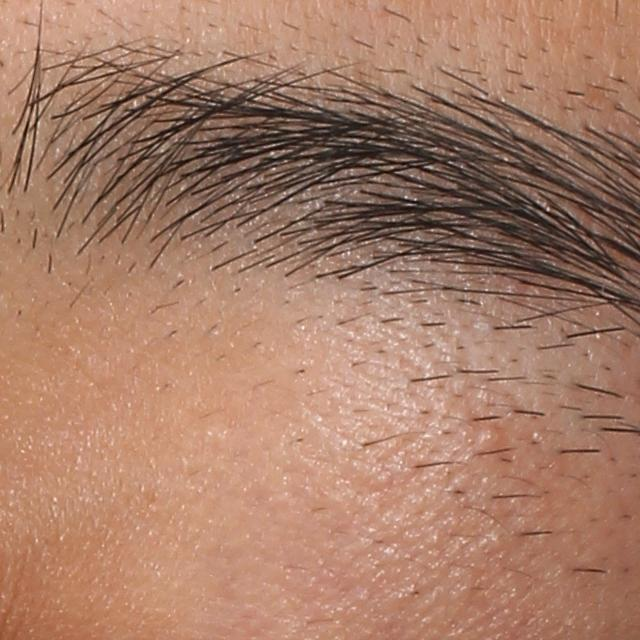comedo: (475, 424, 499, 448)
